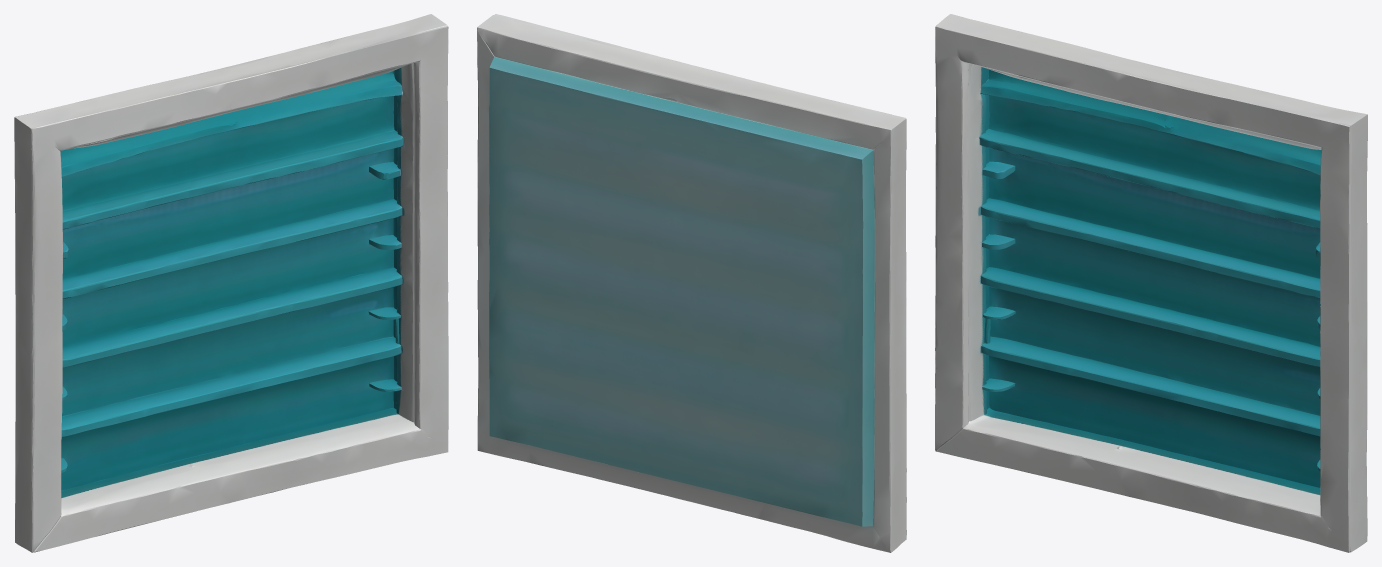
File: window.glb
The picture shows the model from 3 angles, left to right: view 1: azimuth 30°, elevation 25°; view 2: azimuth 150°, elevation 25°; view 3: azimuth 330°, elevation 25°; orthographic projection.
Visible parts, largest first — view 1: model; view 2: model; view 3: model.
Part boxes in pixels (<box>): model: <box>14,14,448,552</box>; model: <box>477,14,906,552</box>; model: <box>935,14,1367,552</box>.
Size of the model in its own units: 1.89 by 1.86 by 0.2187.
1 material, 1 textured.
